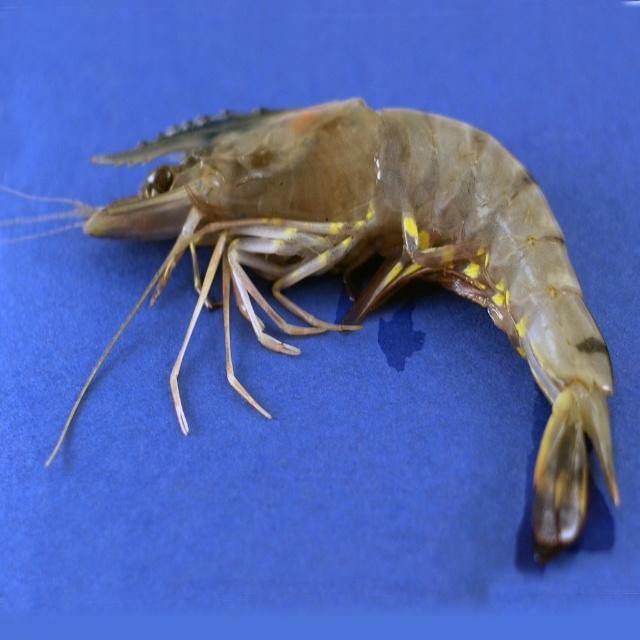Shrimp: (0, 91, 618, 555)
